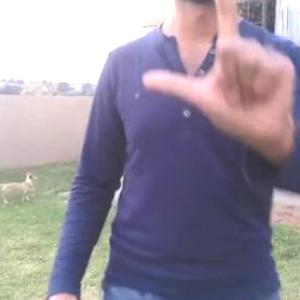land_hand: (140, 0, 299, 139)
